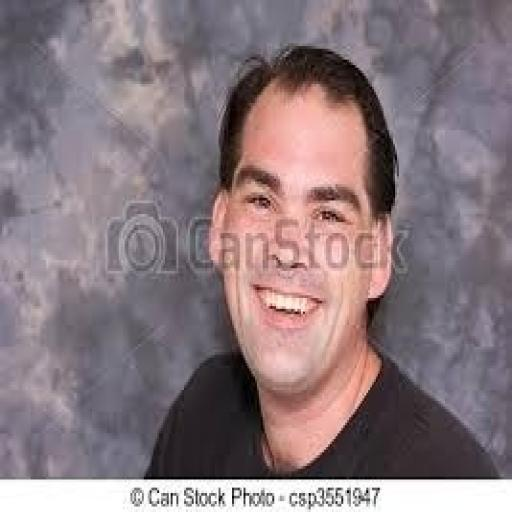laughing: (138, 38, 501, 474), (198, 41, 406, 401)
